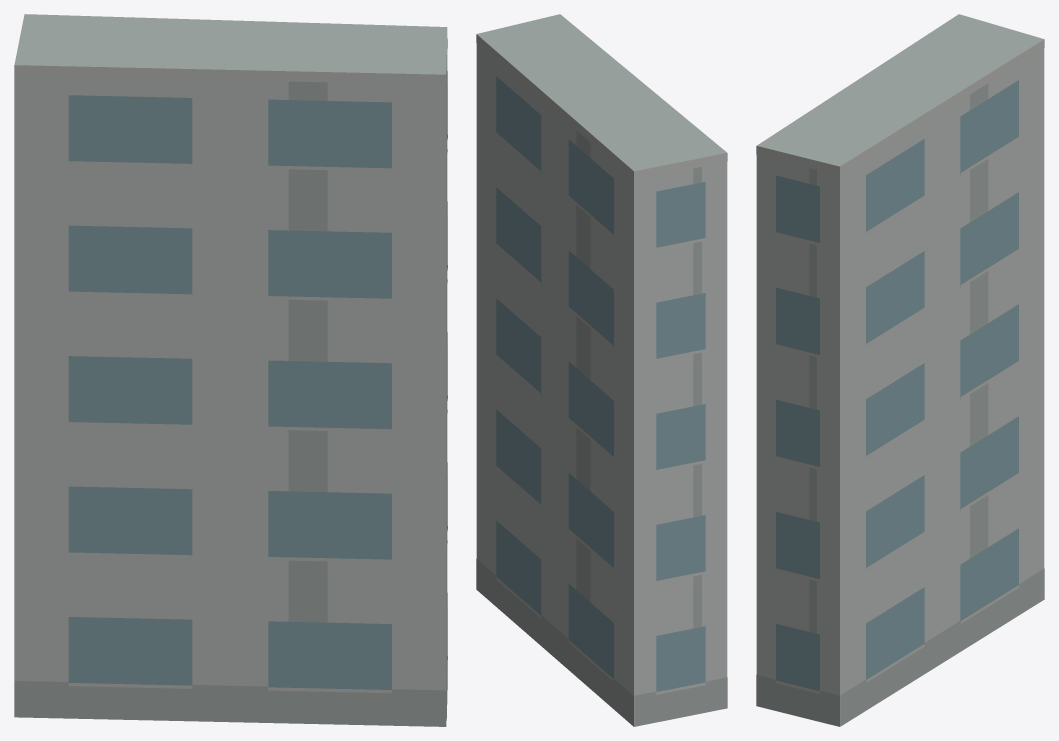
Rendered from survey-upis-32736910.glb.
3 views of the same model, side by side, from view 1: azimuth 30°, elevation 25°; view 2: azimuth 150°, elevation 25°; view 3: azimuth 270°, elevation 25° (orthographic). The views are drawn at different scales.
Parts seen in each view (by area): view 1: survey-upis-32736910.tmp; view 2: survey-upis-32736910.tmp; view 3: survey-upis-32736910.tmp.
Part boxes in pixels (<box>): survey-upis-32736910.tmp: <box>14,14,447,726</box>; survey-upis-32736910.tmp: <box>476,14,727,726</box>; survey-upis-32736910.tmp: <box>756,14,1044,726</box>.
Size of the model in its own units: 8.91 by 15.25 by 7.11.
